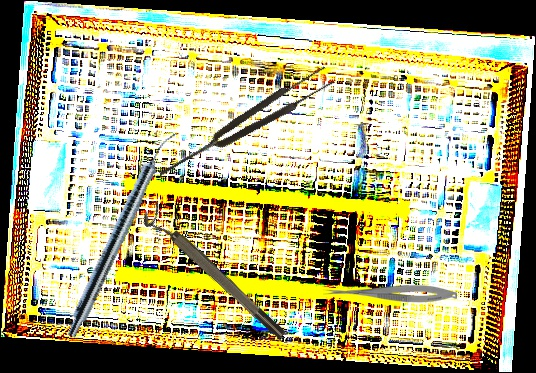Fixation Ring: (138, 201, 289, 348)
Handpiece: (63, 125, 179, 342)
Micro Scissor: (323, 285, 457, 303)
Tissue Forceps: (153, 64, 336, 184)
